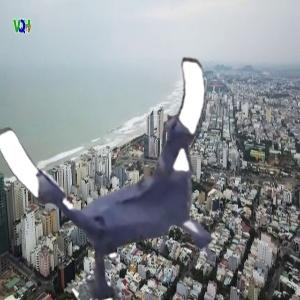drone: (19, 59, 258, 298)
